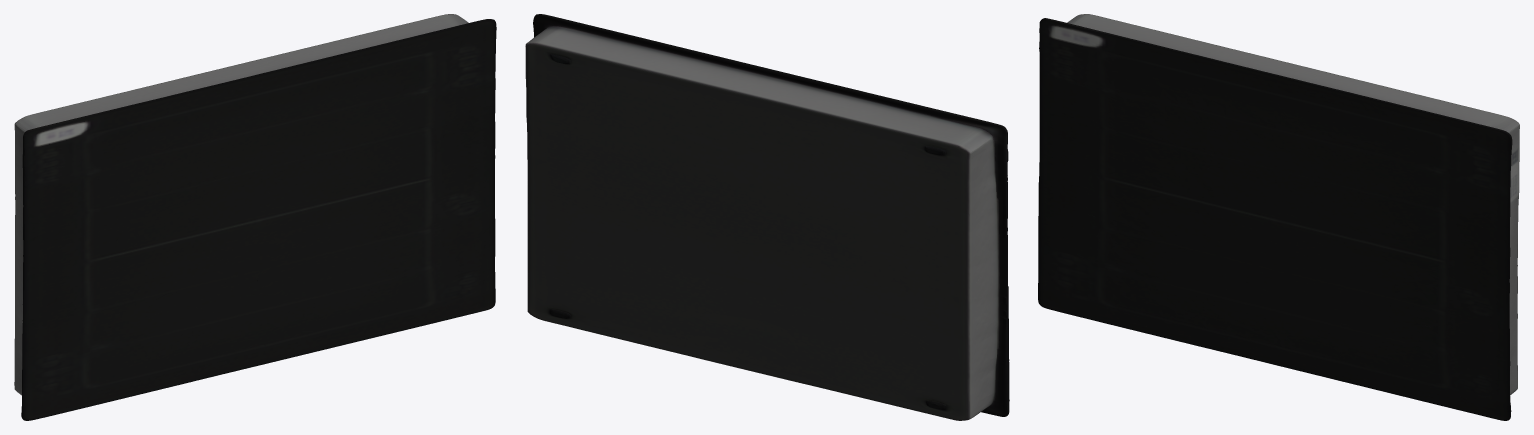
3 views of the same model, side by side, from view 1: azimuth 30°, elevation 25°; view 2: azimuth 150°, elevation 25°; view 3: azimuth 330°, elevation 25° (orthographic).
Bounding box in the file's own units: 0.7582 × 0.4451 × 0.0719.
Materials: 1 (1 with a texture image).
